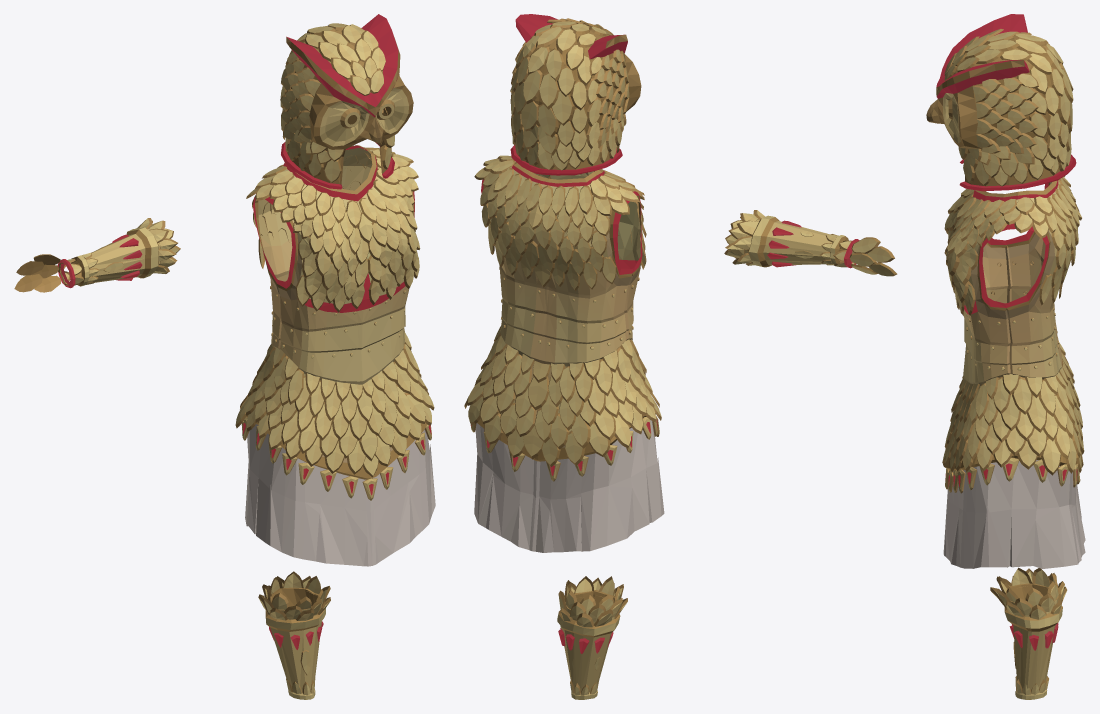
File: greekOwlWarriorFemale.glb
3 renders of one model, left to right at view 1: azimuth 30°, elevation 25°; view 2: azimuth 150°, elevation 25°; view 3: azimuth 270°, elevation 25°, orthographic. The views are drawn at different scales.
Visible parts, largest first — view 1: greekOwlWarriorBody, greekOwlWarriorHelmet, greekOwlWarriorLegBraces, greekOwlWarriorArmBraces, greekOwlWarriorGlove; view 2: greekOwlWarriorBody, greekOwlWarriorHelmet, greekOwlWarriorLegBraces, greekOwlWarriorArmBraces, greekOwlWarriorGlove; view 3: greekOwlWarriorBody, greekOwlWarriorHelmet, greekOwlWarriorLegBraces.
Boxes of the visible parts, <box> form: greekOwlWarriorBody: <box>235,145,435,566</box>; greekOwlWarriorHelmet: <box>280,14,413,189</box>; greekOwlWarriorLegBraces: <box>258,571,330,699</box>; greekOwlWarriorArmBraces: <box>70,218,180,286</box>; greekOwlWarriorGlove: <box>14,254,83,292</box>; greekOwlWarriorBody: <box>464,155,664,552</box>; greekOwlWarriorHelmet: <box>510,14,641,175</box>; greekOwlWarriorLegBraces: <box>557,576,627,699</box>; greekOwlWarriorArmBraces: <box>724,210,848,267</box>; greekOwlWarriorGlove: <box>833,237,897,276</box>; greekOwlWarriorBody: <box>942,176,1085,568</box>; greekOwlWarriorHelmet: <box>926,14,1076,191</box>; greekOwlWarriorLegBraces: <box>990,567,1067,699</box>.
Size of the model in its own units: 1.15 by 1.77 by 0.3787.
